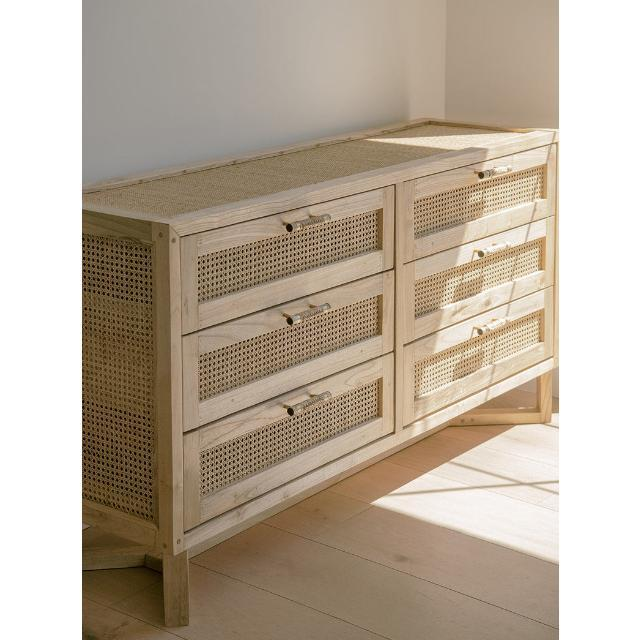dresser: (87, 100, 558, 635)
